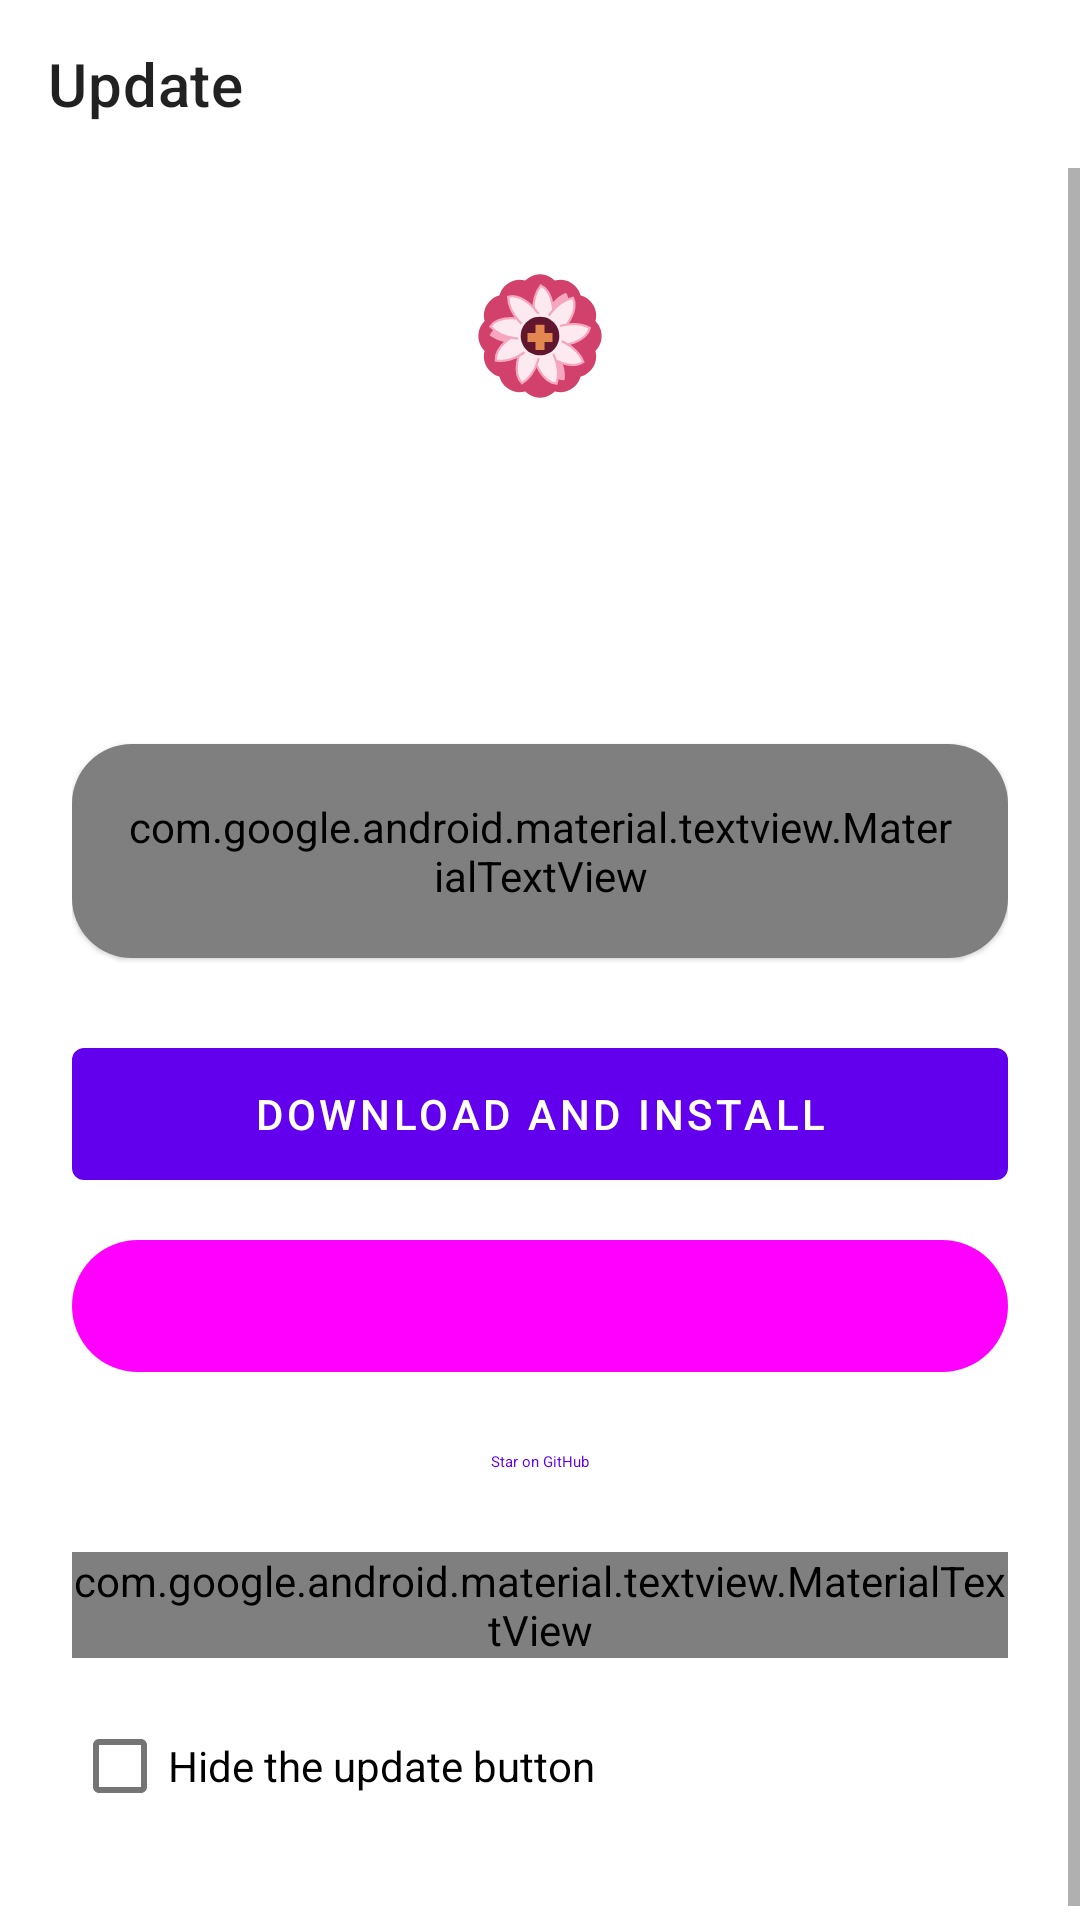

Where icons sit on this 1080px x 1920px app screen, as (x1, y1, x2, y2):
sakura flower: (478, 274, 602, 398)
